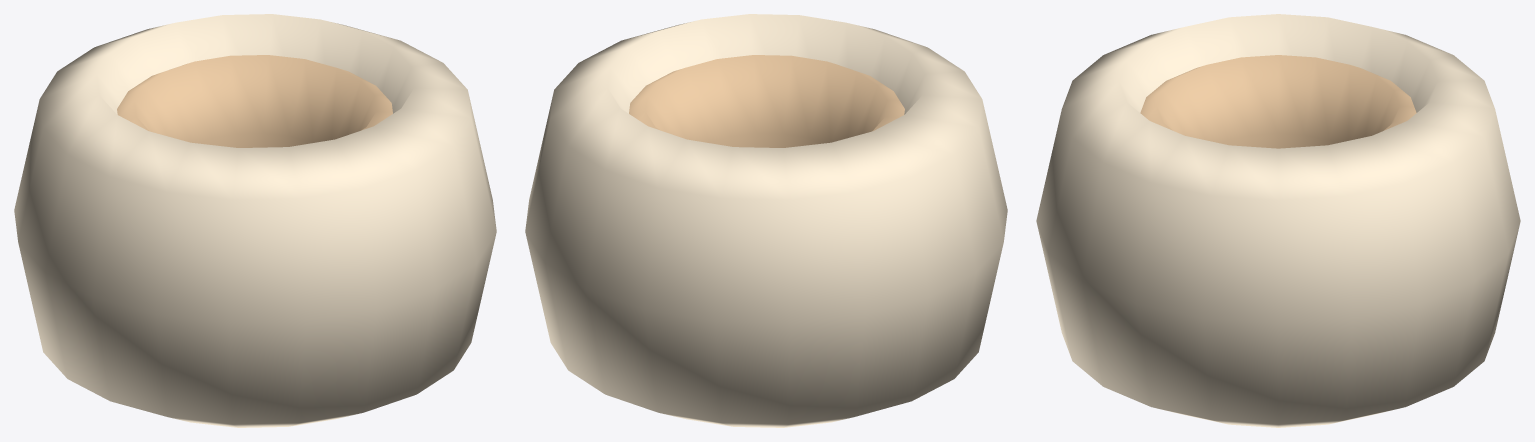
Rendered from packing_tape.glb.
The picture shows the model from 3 angles, left to right: view 1: azimuth 30°, elevation 25°; view 2: azimuth 150°, elevation 25°; view 3: azimuth 270°, elevation 25°; orthographic projection.
Visible parts, largest first — view 1: model; view 2: model; view 3: model.
Part boxes in pixels (box(x1,y1,x2,y2)): model: box(14, 14, 496, 427); model: box(525, 14, 1007, 427); model: box(1036, 14, 1520, 427).
Bounding box in the file's own units: 0.22 × 0.14 × 0.22.
